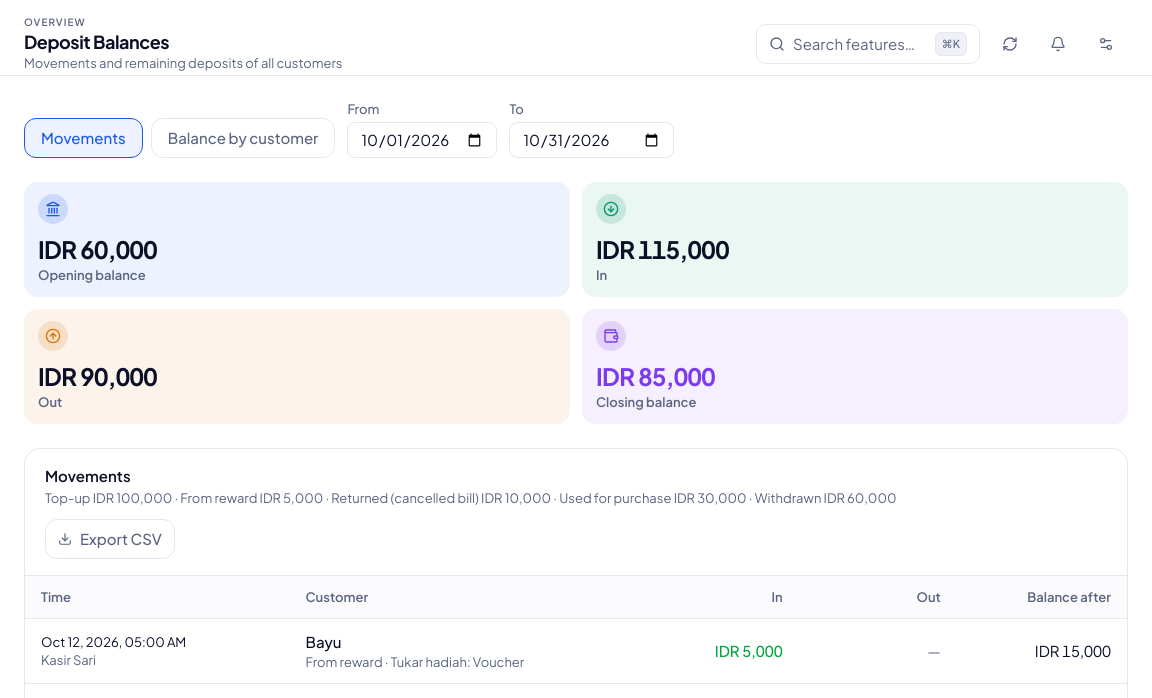
Test: smoke halaman baru › DepositReportPage: mutasi dan saldo per pelanggan
Step 1. Click the button "Balance by customer" → (243,138), box 151,118 -> 335,158
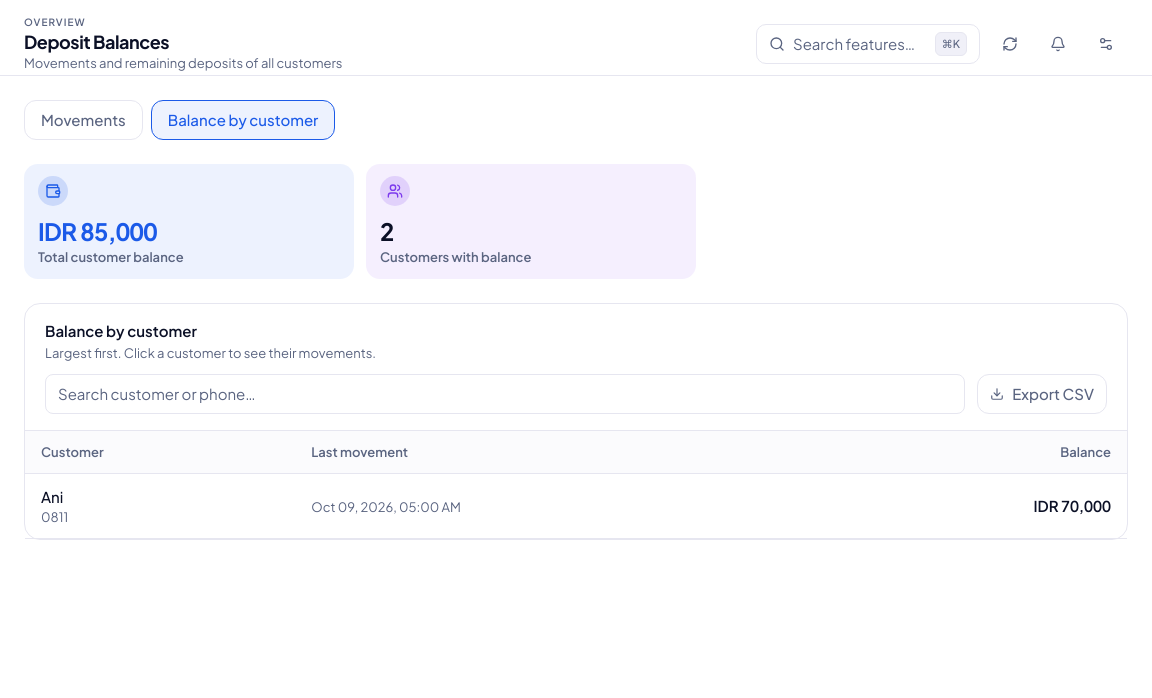
Result: the text "Customers with balance" is shown at 380,249 -> 531,265
Result: the text "0811" is shown at 41,509 -> 68,525
